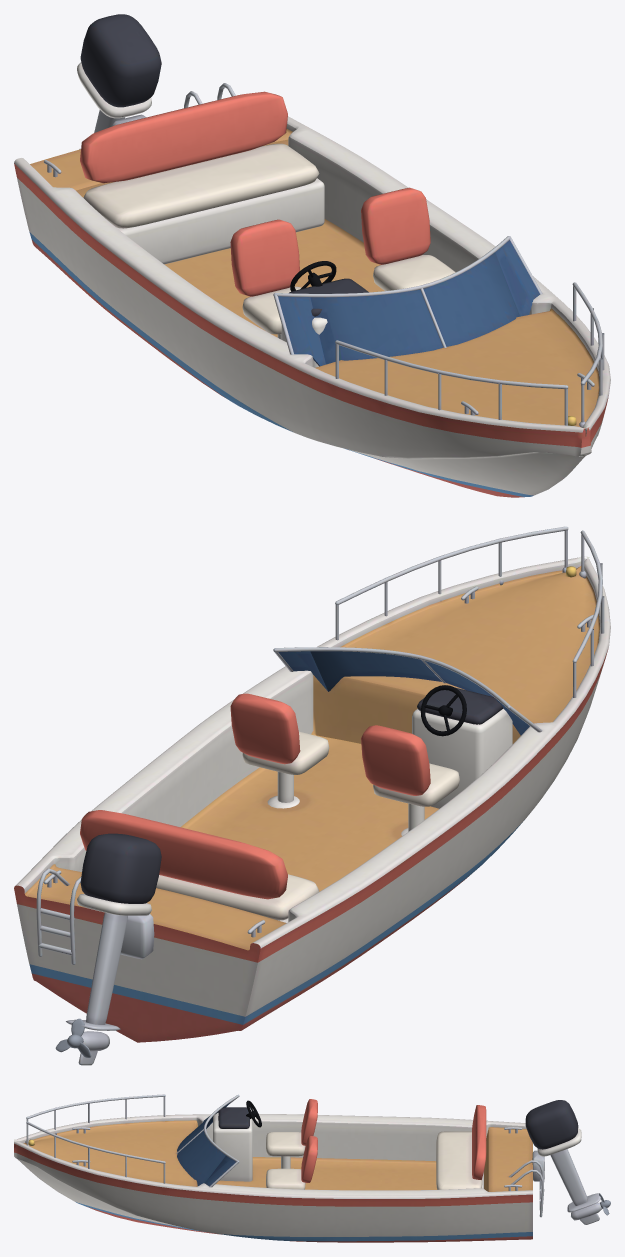
Rendered from motorboat.obj.
3 renders of one model, top to bottom at view 1: azimuth 30°, elevation 25°; view 2: azimuth 150°, elevation 25°; view 3: azimuth 270°, elevation 25°, orthographic. The views are drawn at different scales.
Parts seen in each view (by area): view 1: motorboat_body, motorboat_steering_wheel; view 2: motorboat_body, motorboat_steering_wheel; view 3: motorboat_body, motorboat_steering_wheel.
Boxes of the visible parts, x1,y1,x2,y2 form: motorboat_body: (14, 14, 610, 497); motorboat_steering_wheel: (290, 261, 336, 291); motorboat_body: (14, 526, 610, 1065); motorboat_steering_wheel: (420, 685, 466, 736); motorboat_body: (14, 1094, 601, 1242); motorboat_steering_wheel: (246, 1100, 261, 1127).
Bounding box in the file's own units: 2.46 × 1.83 × 7.53.
3 materials, 1 textured.
